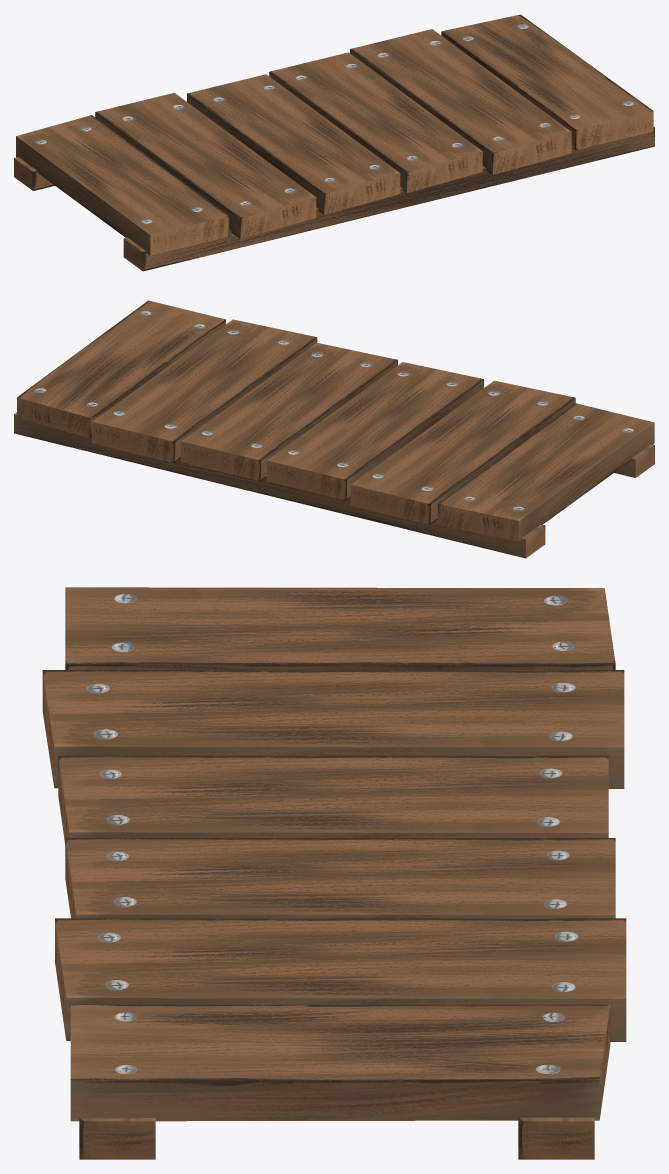
The model's file is wood-platform.fbx.
3 renders of one model, top to bottom at view 1: azimuth 30°, elevation 25°; view 2: azimuth 150°, elevation 25°; view 3: azimuth 270°, elevation 25°, orthographic. The views are drawn at different scales.
Parts seen in each view (by area): view 1: WoodPlatform.005, WoodPlatform.002, WoodPlatform.004, WoodPlatform, WoodPlatform.001, WoodPlatform.003, WoodPlatform.006, WoodPlatform.007; view 2: WoodPlatform.005, WoodPlatform.002, WoodPlatform.004, WoodPlatform, WoodPlatform.001, WoodPlatform.003, WoodPlatform.007, WoodPlatform.006; view 3: WoodPlatform.003, WoodPlatform.004, WoodPlatform.002, WoodPlatform, WoodPlatform.005, WoodPlatform.001, WoodPlatform.007, WoodPlatform.006.
Part boxes in pixels (x1,y1,x2,y2): WoodPlatform.005: [16, 115, 229, 255]; WoodPlatform.002: [350, 29, 571, 174]; WoodPlatform.004: [95, 92, 316, 238]; WoodPlatform: [187, 74, 400, 214]; WoodPlatform.001: [269, 52, 482, 192]; WoodPlatform.003: [441, 14, 653, 150]; WoodPlatform.006: [123, 127, 654, 271]; WoodPlatform.007: [14, 157, 54, 190]; WoodPlatform.005: [438, 403, 654, 541]; WoodPlatform.002: [92, 319, 317, 463]; WoodPlatform.004: [351, 380, 575, 524]; WoodPlatform: [267, 362, 483, 500]; WoodPlatform.001: [181, 343, 397, 481]; WoodPlatform.003: [17, 300, 225, 438]; WoodPlatform.007: [14, 412, 545, 558]; WoodPlatform.006: [614, 444, 654, 477]; WoodPlatform.003: [70, 1004, 610, 1121]; WoodPlatform.004: [42, 670, 624, 788]; WoodPlatform.002: [55, 918, 626, 1041]; WoodPlatform: [58, 755, 608, 844]; WoodPlatform.005: [65, 587, 615, 669]; WoodPlatform.001: [65, 838, 615, 918]; WoodPlatform.007: [518, 1117, 594, 1159]; WoodPlatform.006: [79, 1118, 155, 1159].
Size of the model in its own units: 1291 by 92.73 by 637.
2 materials, 2 textured.
